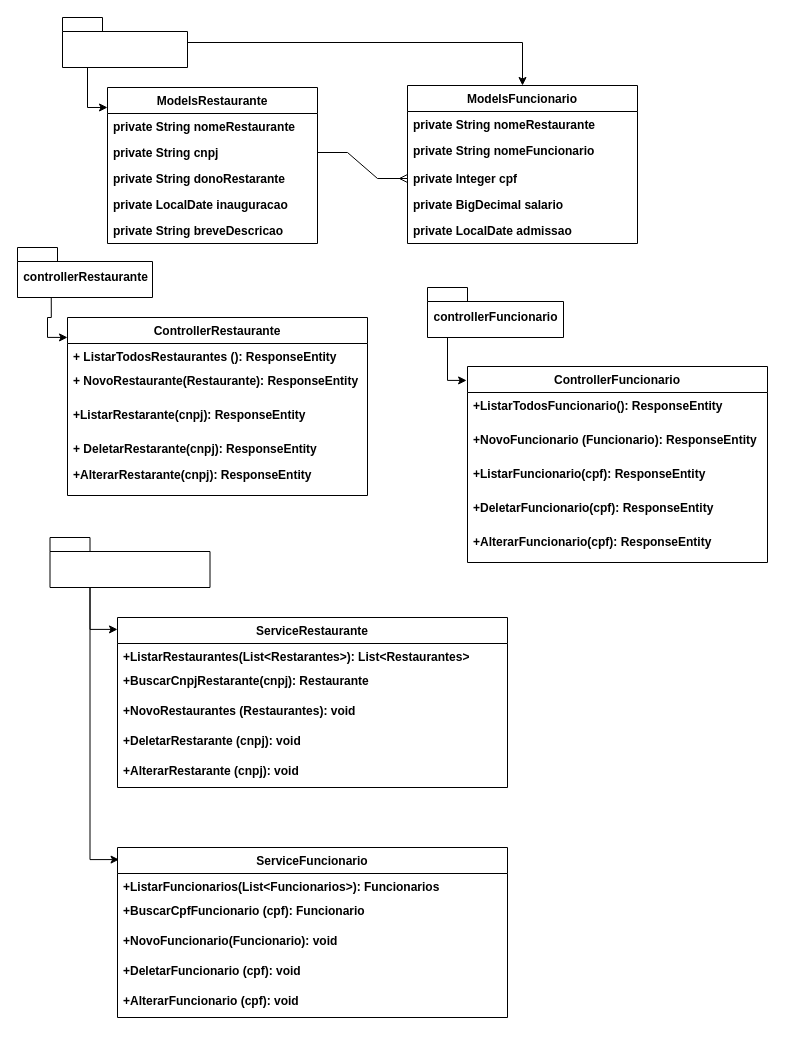
This 785x1038 diagram has some shape labels left out. Each missing label, with the centre of its shape:
models: the point at 125,42
service: the point at 129,562
